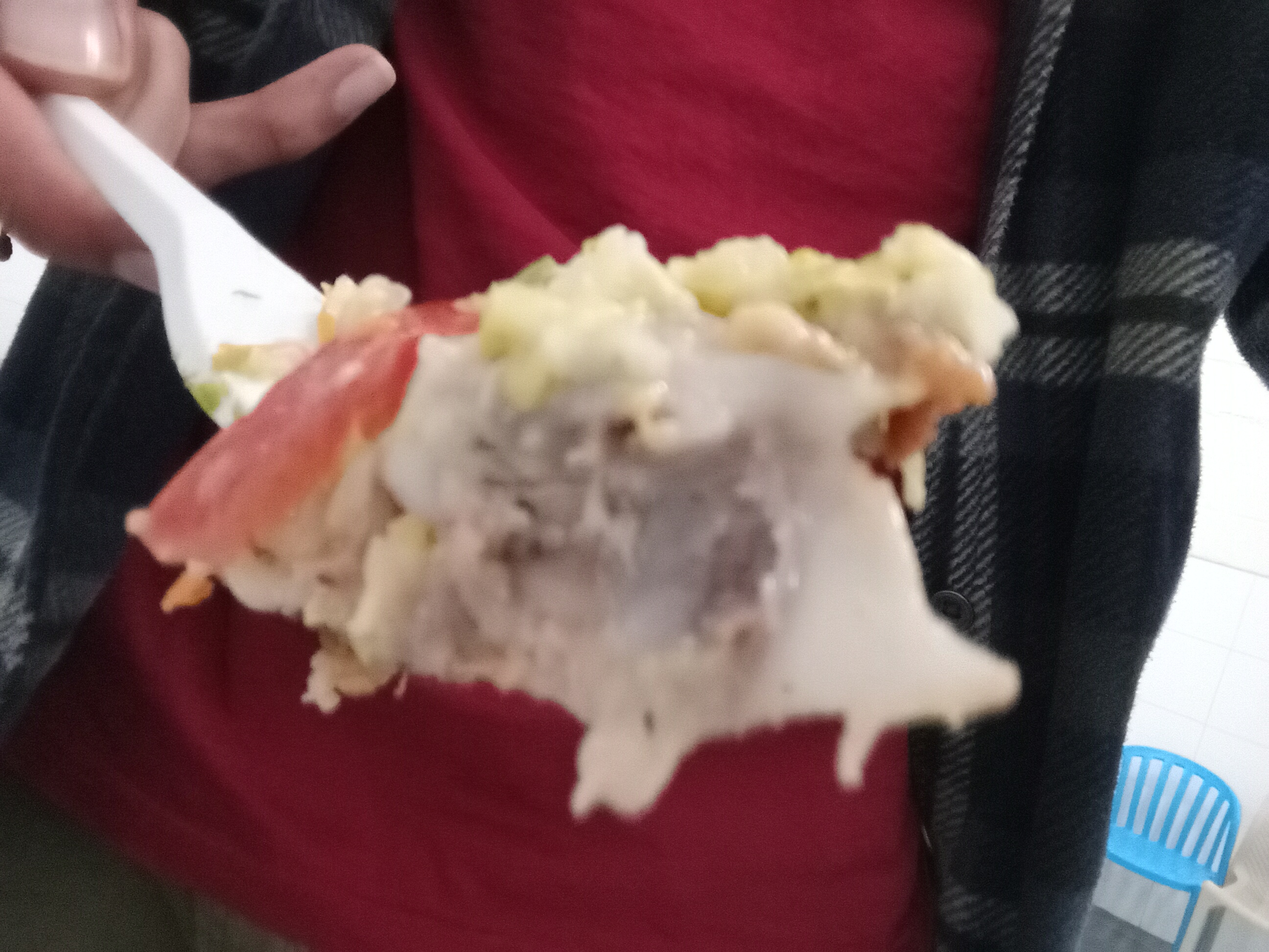Organico: (123, 223, 1025, 825)
